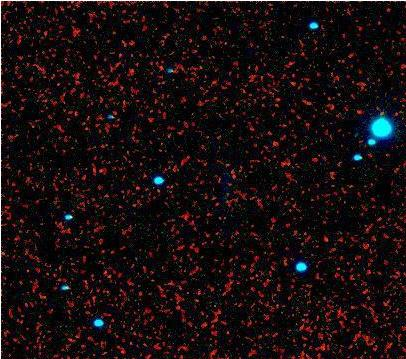star: (84, 154, 114, 184)
